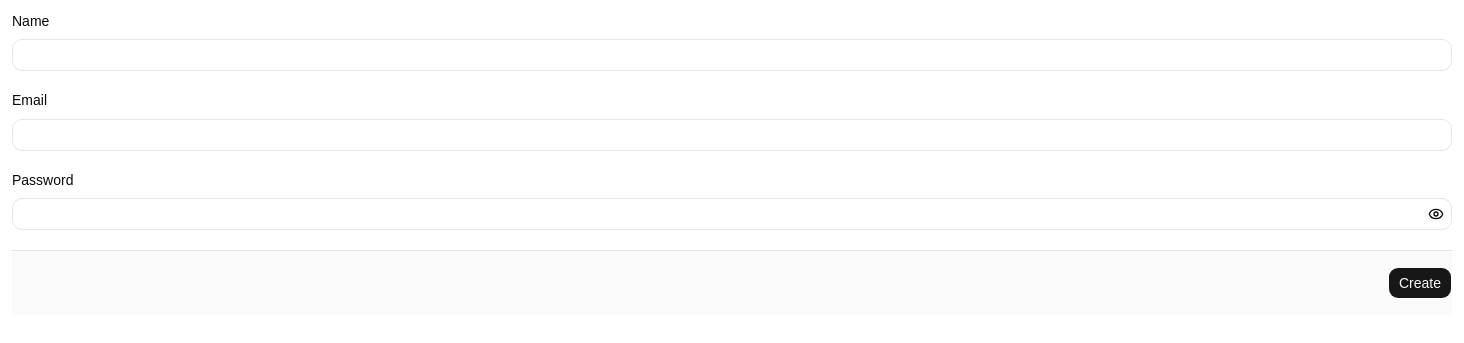
Test: CreateUserForm — after it calls the API › shows the email as already taken when the API answers 409
Type "New Hire" into the field labelled "Name" at point(732, 55), box [12,39,1452,71]
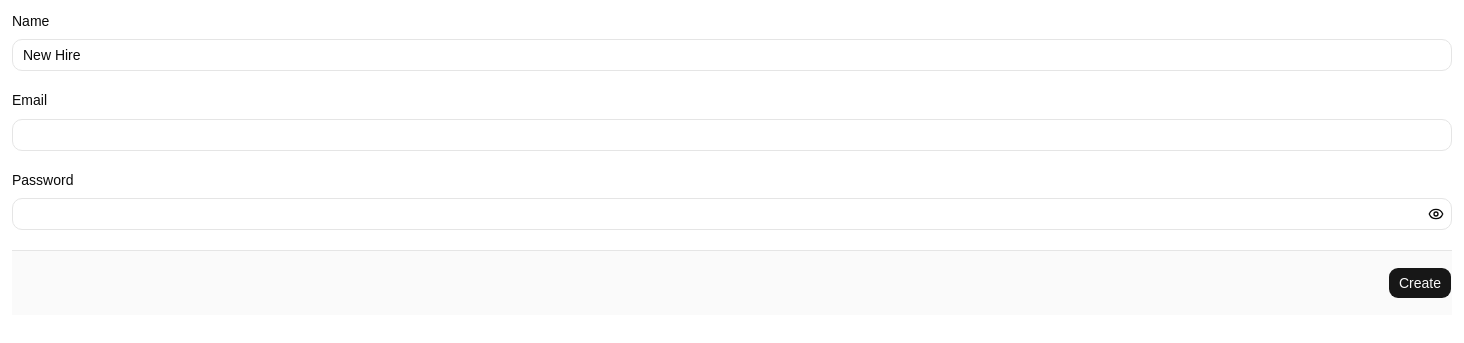
Type "New.Hire@Test.LOCAL" into the field labelled "Email" at point(732, 134), box [12,118,1452,150]
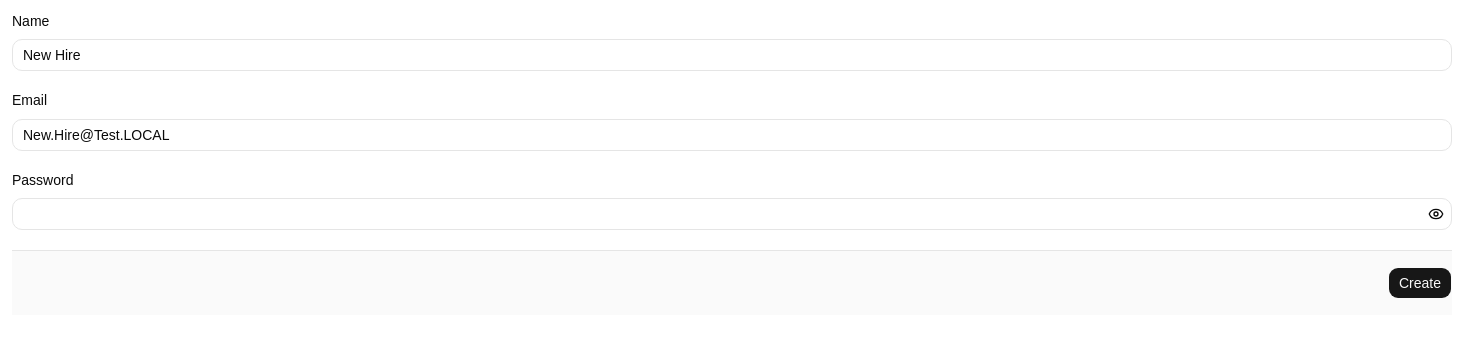
Type "password1234" into the password field labelled "Password" at point(732, 214), box [12,198,1452,230]
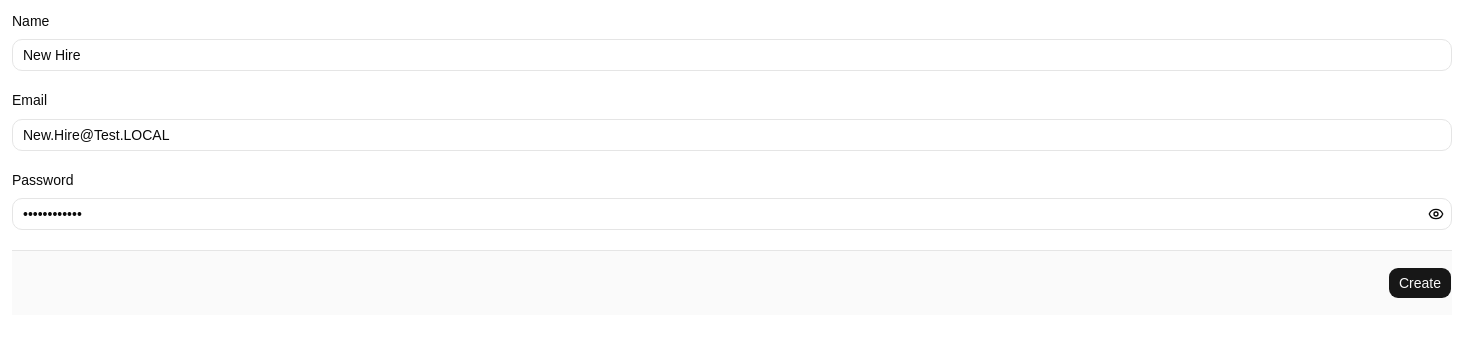
Click the button "Create" at point(1420, 283), box [1388,267,1452,299]
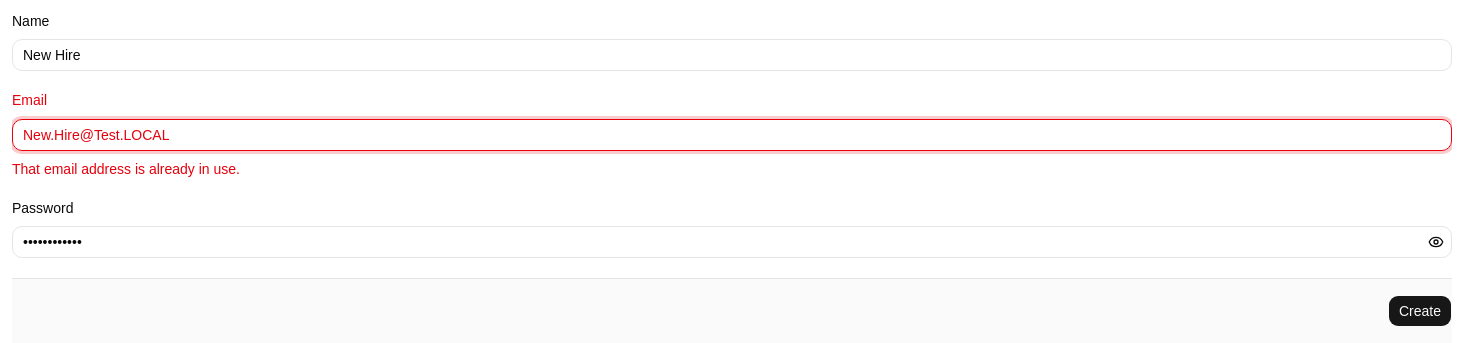
Check: the text "That email address is already in use." is shown, box [12,160,240,176]
